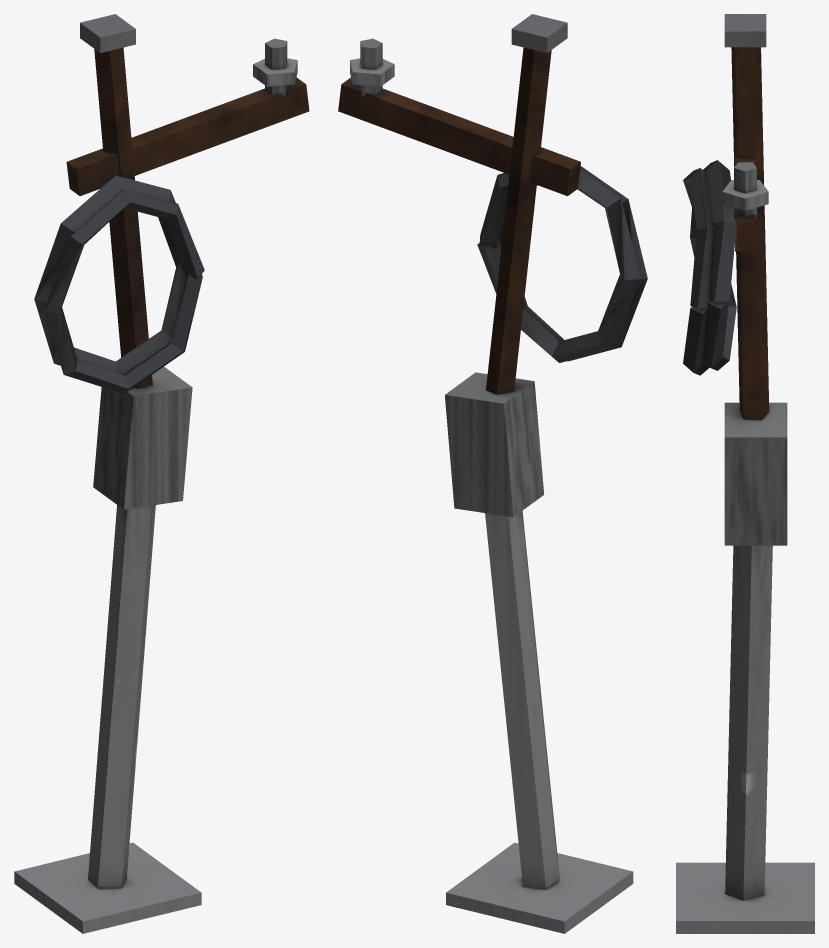
The model's file is nodexeus-set-mast-3.glb.
The picture shows the model from 3 angles, left to right: view 1: azimuth 30°, elevation 25°; view 2: azimuth 150°, elevation 25°; view 3: azimuth 270°, elevation 25°; orthographic projection.
Parts seen in each view (by area): view 1: set-mast-3; view 2: set-mast-3; view 3: set-mast-3.
Part boxes in pixels (x1,y1,x2,y2): set-mast-3: (14, 14, 309, 933); set-mast-3: (338, 14, 647, 933); set-mast-3: (676, 14, 814, 933).
Bounding box in the file's own units: 0.9576 × 2.8 × 0.4.
Materials: 1 (1 with a texture image).
